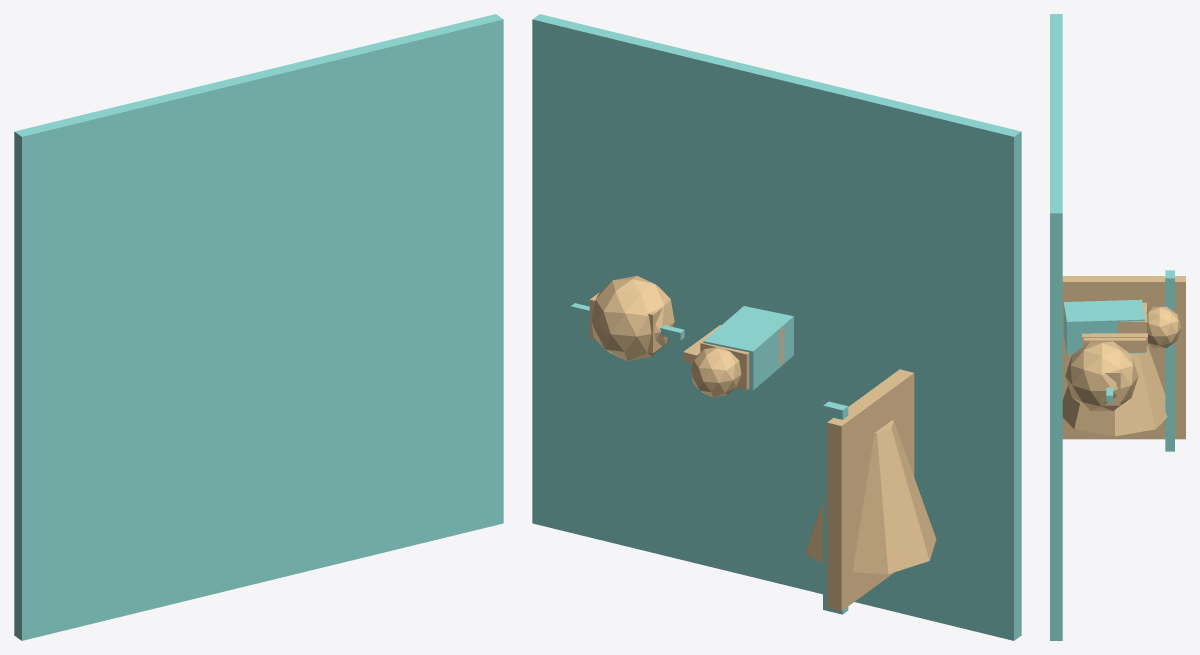
File: pirate-chronicles-kit.glb
3 views of the same model, side by side, from view 1: azimuth 30°, elevation 25°; view 2: azimuth 150°, elevation 25°; view 3: azimuth 270°, elevation 25° (orthographic). The views are drawn at different scales.
Visible parts, largest first — view 1: ENVIRONMENT_GROUND; view 2: ENVIRONMENT_GROUND, PROFILE_ENVIRONMENT_DETAIL, ENVIRONMENT_LANDMARK, OBSTACLE, PLAYER_BODY, PLAYER_HEAD, PROFILE_ENVIRONMENT_TRIM, PROFILE_PLAYER_DETAIL; view 3: ENVIRONMENT_GROUND, PROFILE_ENVIRONMENT_DETAIL, ENVIRONMENT_LANDMARK, OBSTACLE, PLAYER_BODY, PROFILE_ENVIRONMENT_TRIM, PLAYER_HEAD, PROFILE_PLAYER_DETAIL, PLAYER_TOOL, PROFILE_PLAYER_TOOL, PROFILE_OBSTACLE_DETAIL.
Part boxes in pixels (box(x1,y1,x2,y2)): ENVIRONMENT_GROUND: box(14, 14, 503, 640); ENVIRONMENT_GROUND: box(532, 14, 1021, 640); PROFILE_ENVIRONMENT_DETAIL: box(827, 369, 914, 610); ENVIRONMENT_LANDMARK: box(805, 420, 936, 574); OBSTACLE: box(591, 275, 674, 360); PLAYER_BODY: box(703, 306, 793, 390); PLAYER_HEAD: box(691, 346, 741, 397); PROFILE_ENVIRONMENT_TRIM: box(823, 401, 848, 614); PROFILE_PLAYER_DETAIL: box(700, 328, 783, 389); ENVIRONMENT_GROUND: box(1050, 14, 1062, 640); PROFILE_ENVIRONMENT_DETAIL: box(1062, 276, 1185, 439); ENVIRONMENT_LANDMARK: box(1062, 346, 1167, 436); OBSTACLE: box(1065, 341, 1138, 410); PLAYER_BODY: box(1063, 299, 1145, 355); PROFILE_ENVIRONMENT_TRIM: box(1165, 270, 1174, 451); PLAYER_HEAD: box(1146, 306, 1181, 348); PROFILE_PLAYER_DETAIL: box(1118, 302, 1146, 352); PLAYER_TOOL: box(1083, 338, 1146, 347); PROFILE_PLAYER_TOOL: box(1082, 333, 1147, 345); PROFILE_OBSTACLE_DETAIL: box(1099, 370, 1120, 405).
Size of what is drawn, in the model's own units: 9 by 9 by 2.59.
